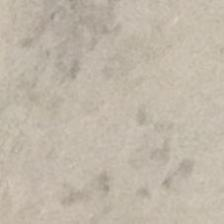Non_Crack: (40, 27, 208, 193)
